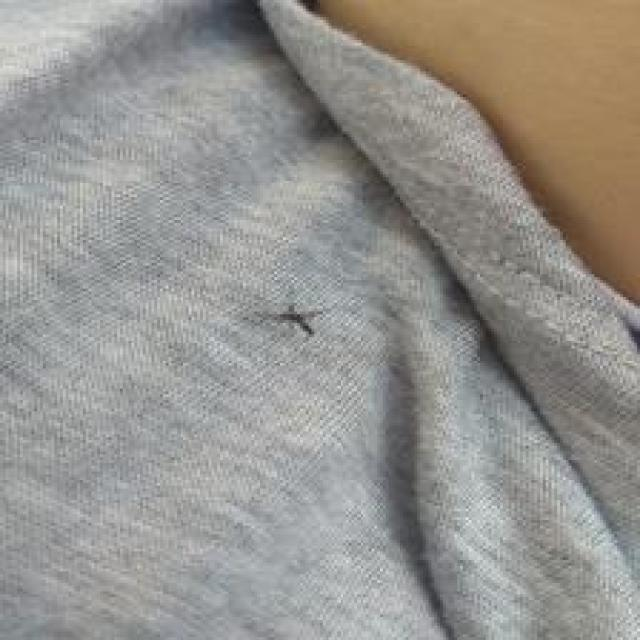Aedes albopictus: (277, 303, 317, 337)
